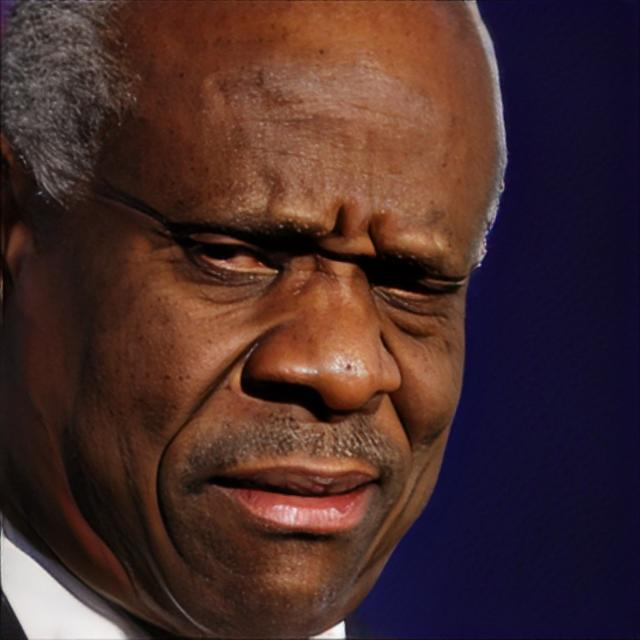anger: (52, 29, 504, 631)
